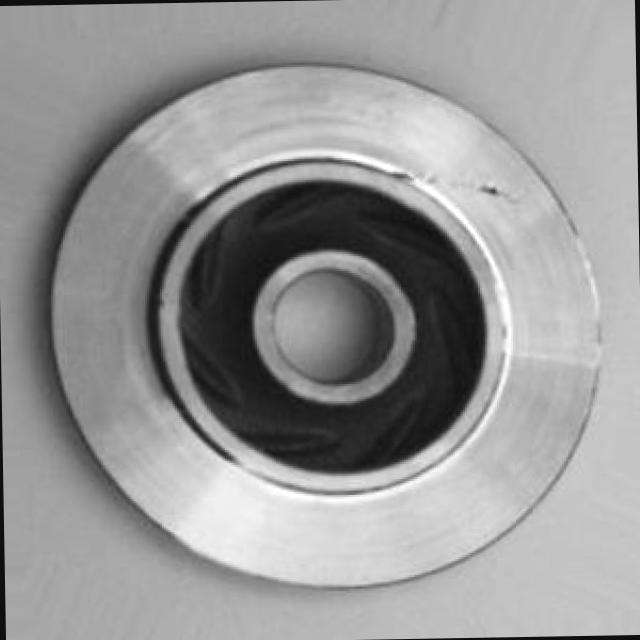Defect: (454, 165, 526, 212)
